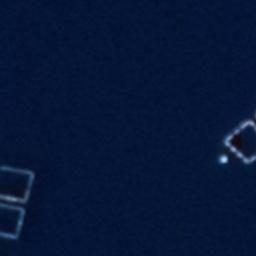square_solid: (221, 114, 256, 168), (1, 159, 36, 207), (1, 195, 29, 244)
